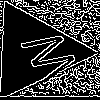W: (9, 26, 82, 90)
